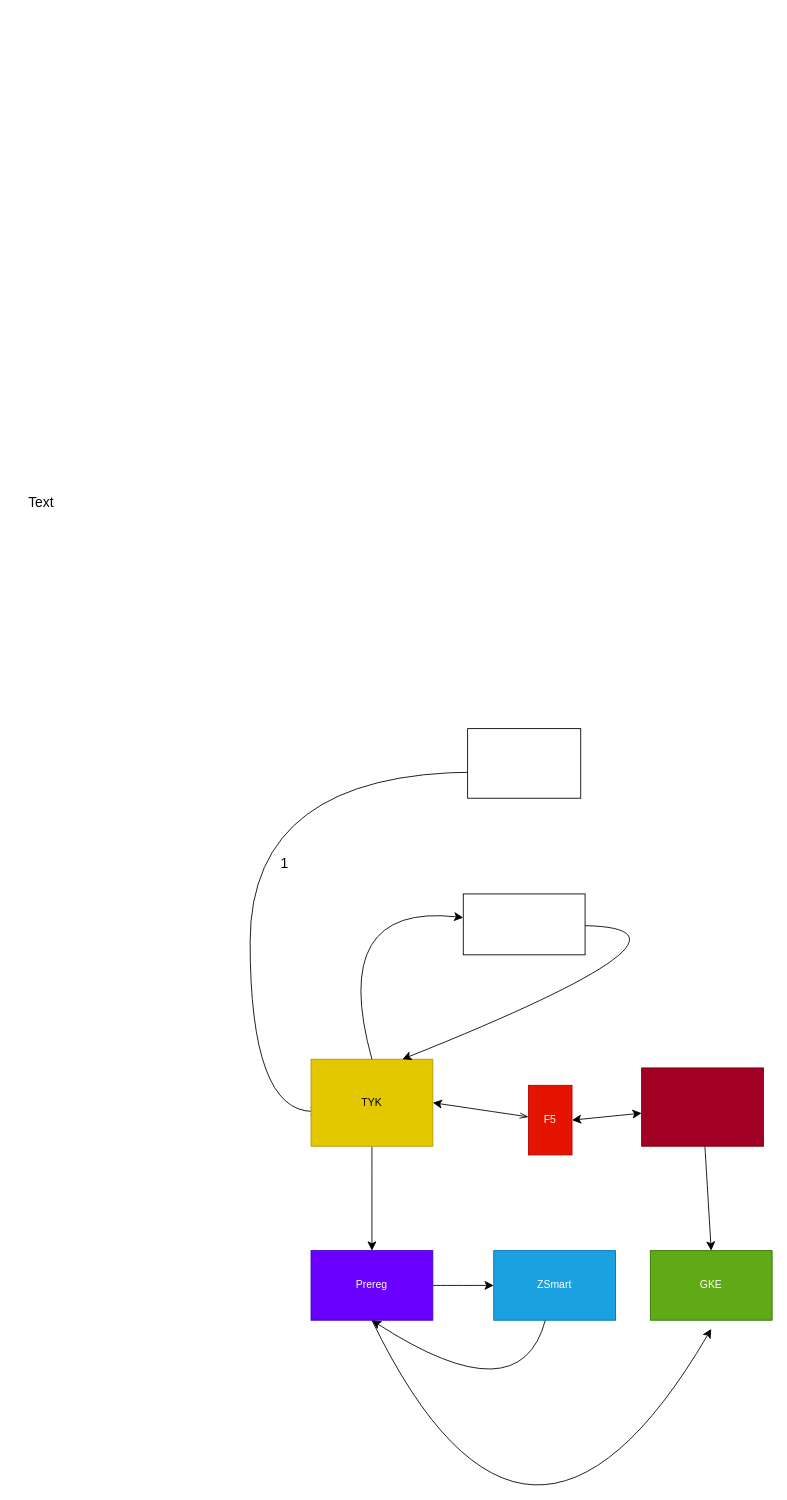
Image size: 787x1500. Some labels were removed from this diagram. The centre of each missing label's shape, as x and y in pixels:
Axonect: pixel 702 1106
DIS: pixel 523 924
Touchpoint: pixel 524 763
